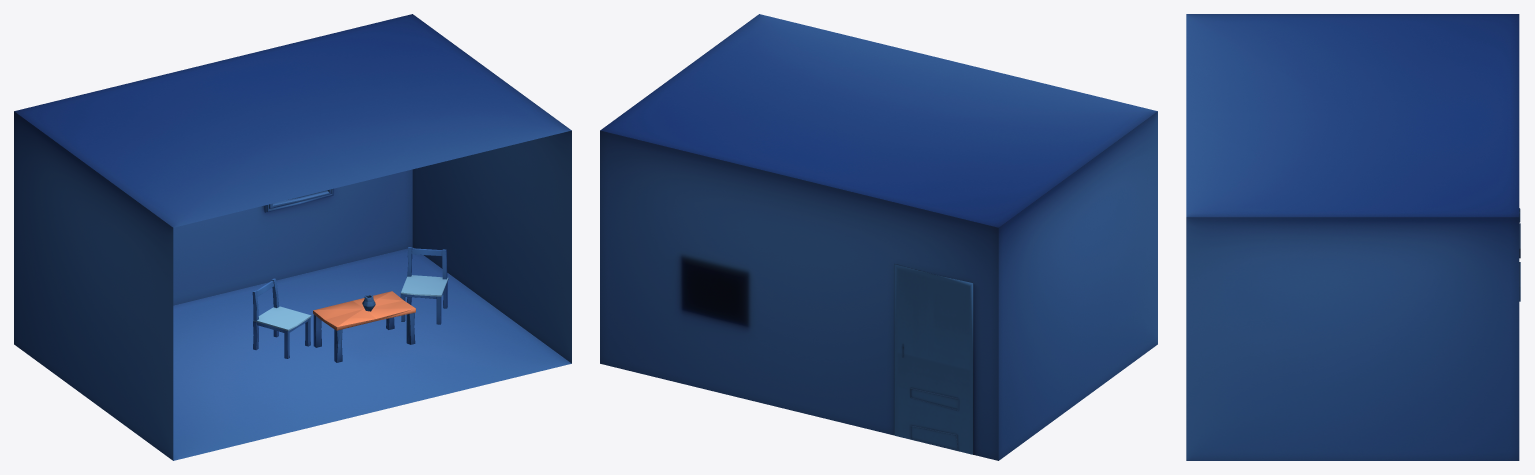
Rendered from Room.FBX.
3 views of the same model, side by side, from view 1: azimuth 30°, elevation 25°; view 2: azimuth 150°, elevation 25°; view 3: azimuth 270°, elevation 25° (orthographic). The views are drawn at different scales.
Visible parts, largest first — view 1: CEILING, FLOOR, WALL_R, WALL_L, WALL_BACK, ROOM_Table, ROOM_Chair01, ROOM_Chair02; view 2: WALL_BACK, CEILING, WALL_R; view 3: WALL_L, CEILING.
Part boxes in pixels (bbox=[...]): CEILING: bbox=[14, 14, 571, 227]; FLOOR: bbox=[173, 247, 571, 460]; WALL_R: bbox=[14, 111, 173, 460]; WALL_L: bbox=[412, 130, 571, 363]; WALL_BACK: bbox=[173, 169, 412, 305]; ROOM_Table: bbox=[313, 291, 415, 362]; ROOM_Chair01: bbox=[252, 278, 311, 358]; ROOM_Chair02: bbox=[400, 247, 448, 324]; WALL_BACK: bbox=[600, 130, 998, 460]; CEILING: bbox=[600, 14, 1157, 227]; WALL_R: bbox=[998, 111, 1157, 460]; WALL_L: bbox=[1186, 217, 1519, 460]; CEILING: bbox=[1186, 14, 1519, 217].
Size of the model in its own units: 445 by 249 by 309.
